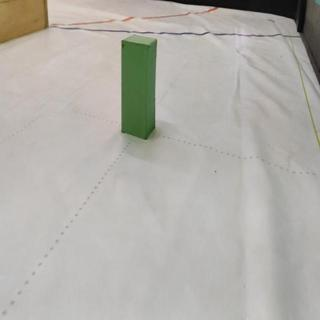greenbox: (119, 35, 159, 140)
